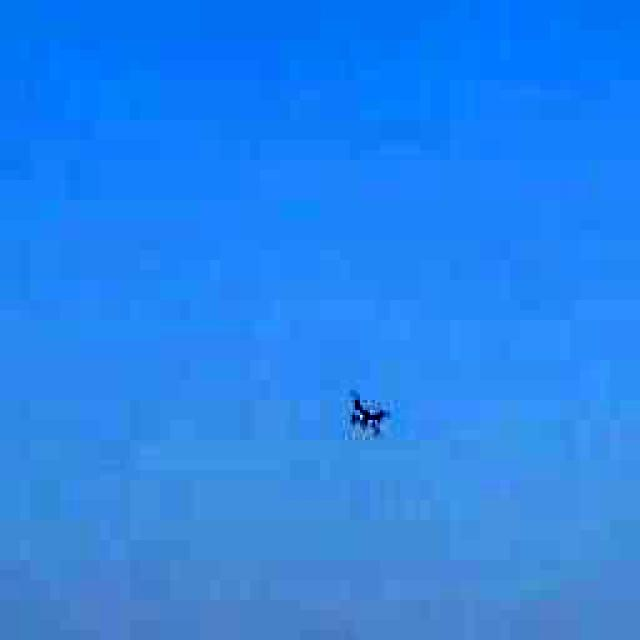bird: (332, 385, 395, 445)
